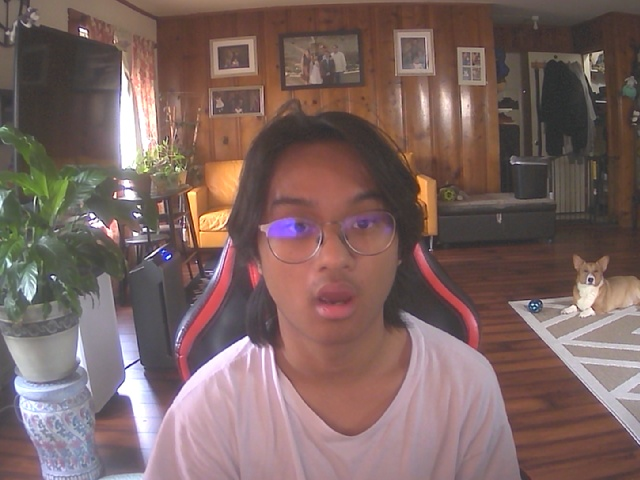fear: (248, 111, 415, 350)
